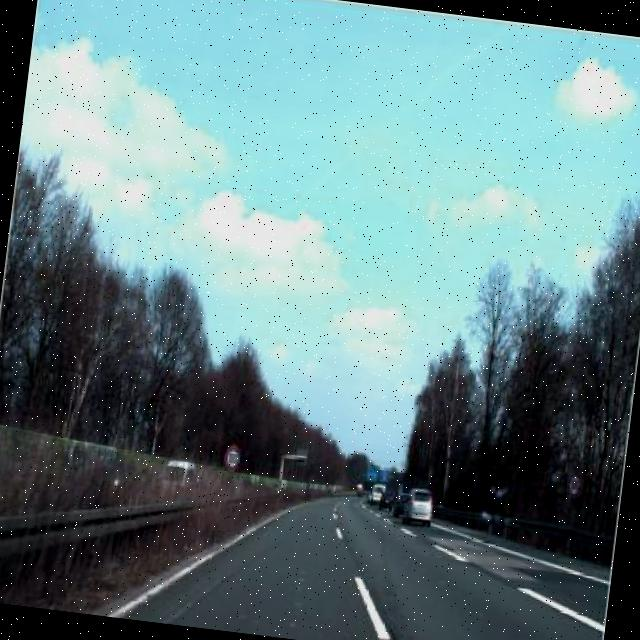Ograniczenie predkosci do 100: (221, 439, 242, 474), (566, 469, 584, 498)
